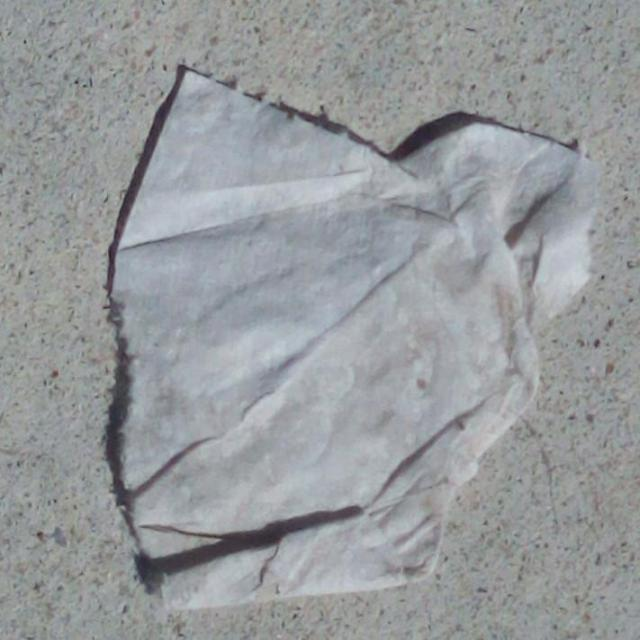litter: (113, 71, 600, 616)
